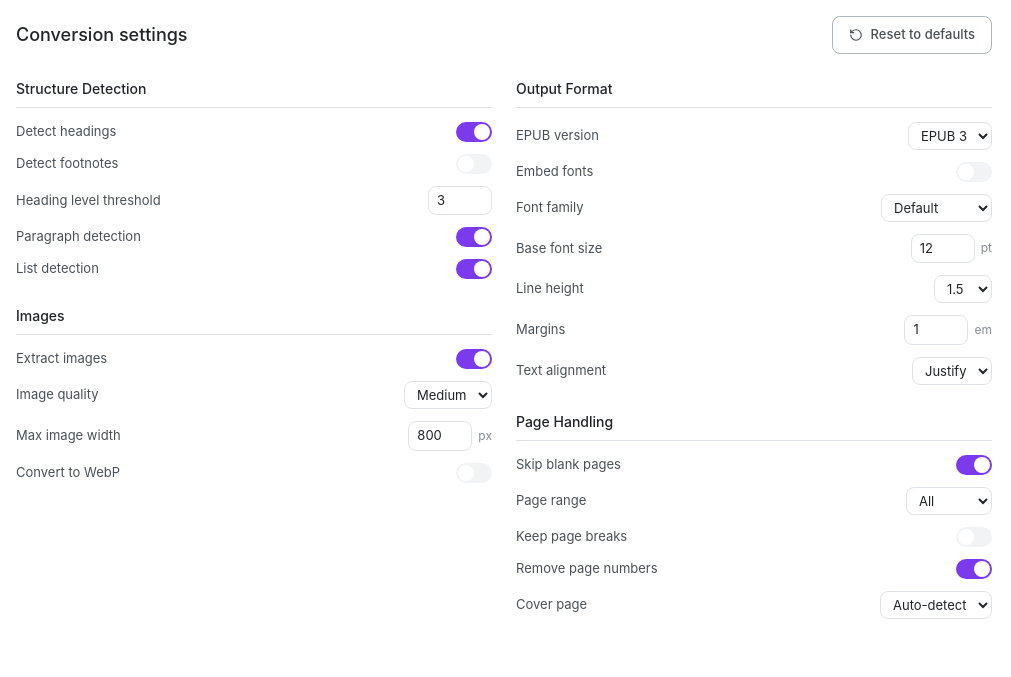
Test: SettingsScreen › "Custom" page range shows From/To inputs
Expected: the text "From" is not shown
Select "Custom" in the dropdown showing "All" in the row of "Page range" at (949, 500), box x1=906 y1=486 x2=992 y2=514
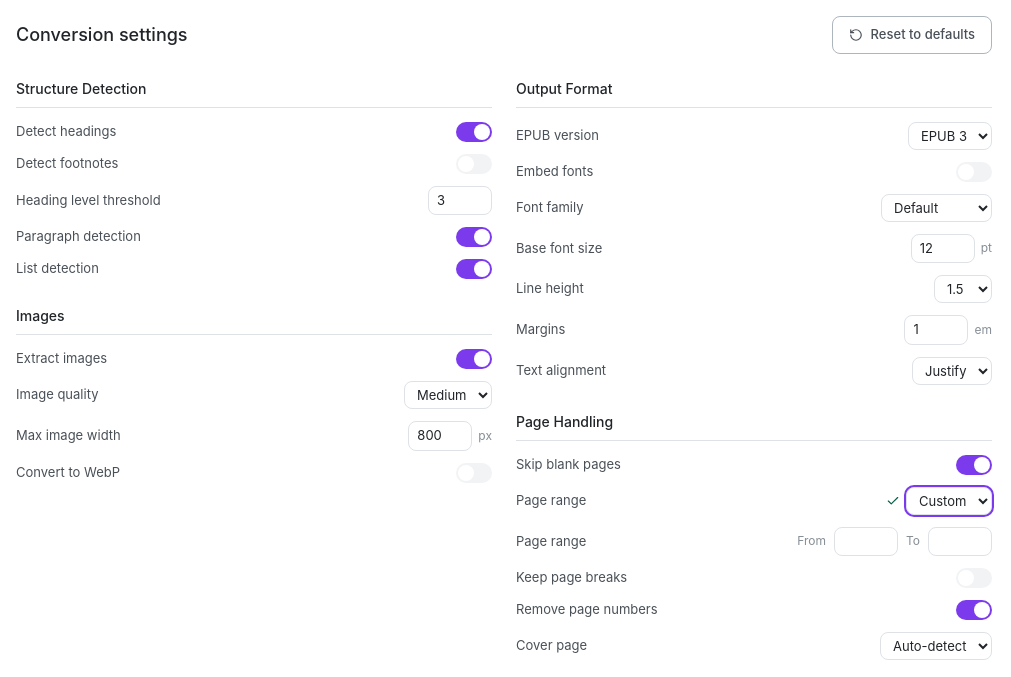
Expected: the text "From" is shown, x1=797 y1=532 x2=826 y2=550
Expected: the text "To" is shown, x1=906 y1=532 x2=920 y2=550
